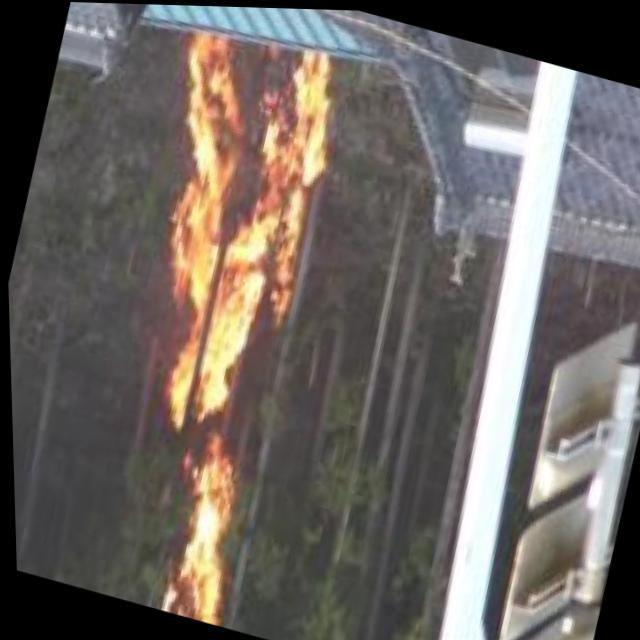fire: (59, 16, 388, 636)
